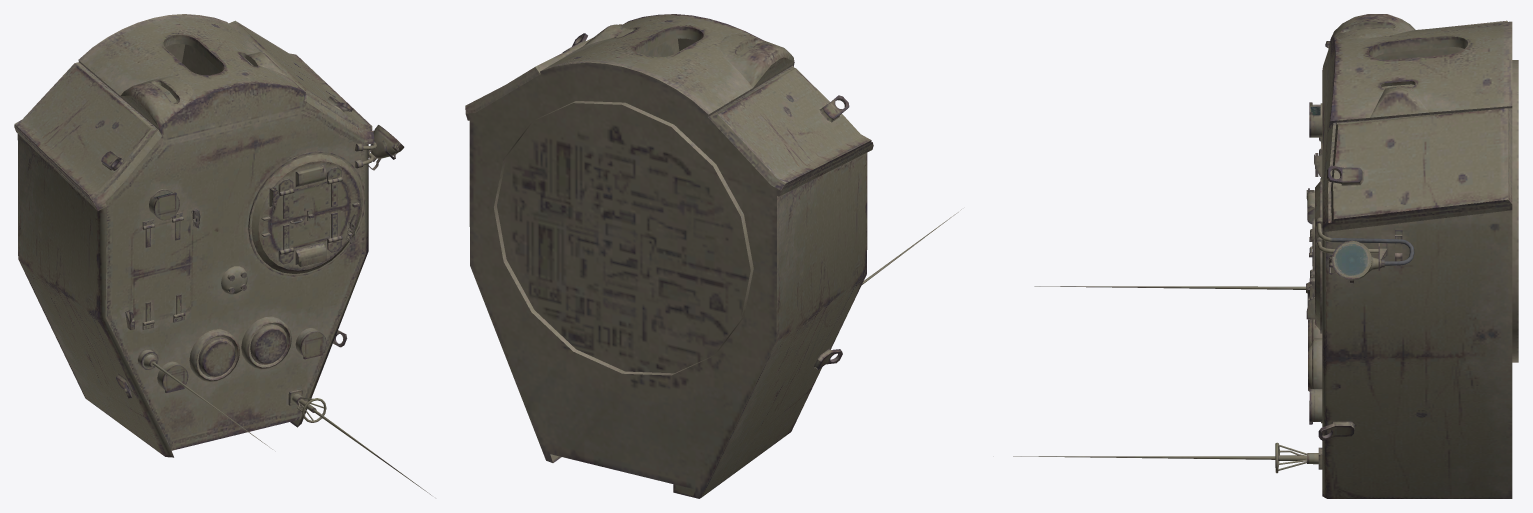
Rendered from Turret_01.glb.
The picture shows the model from 3 angles, left to right: view 1: azimuth 30°, elevation 25°; view 2: azimuth 150°, elevation 25°; view 3: azimuth 270°, elevation 25°; orthographic projection. The views are drawn at different scales.
Visible parts, largest first — view 1: set_0_group_0; view 2: set_0_group_0; view 3: set_0_group_0.
Boxes of the visible parts, box(x1,y1,x2,y2) form: set_0_group_0: box(14, 14, 431, 495); set_0_group_0: box(465, 14, 961, 498); set_0_group_0: box(1013, 14, 1518, 498).
Size of the model in its own units: 2.28 by 2.55 by 2.8.
Materials: 1 (1 with a texture image).
